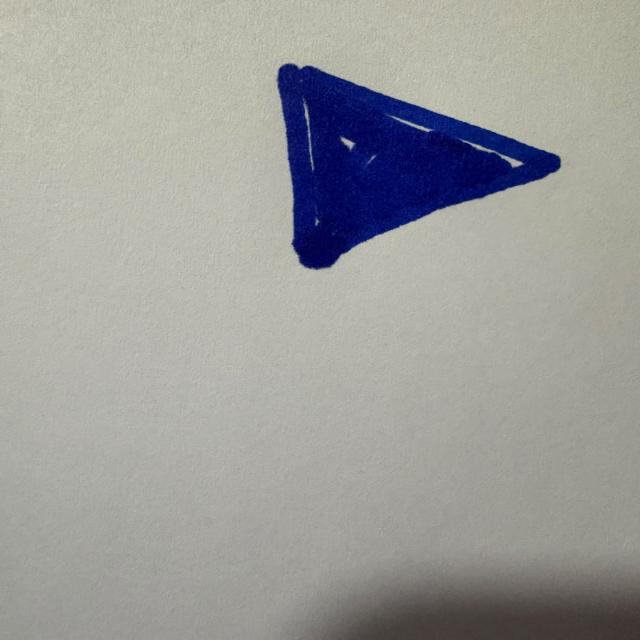Triangle: (277, 64, 560, 269)
